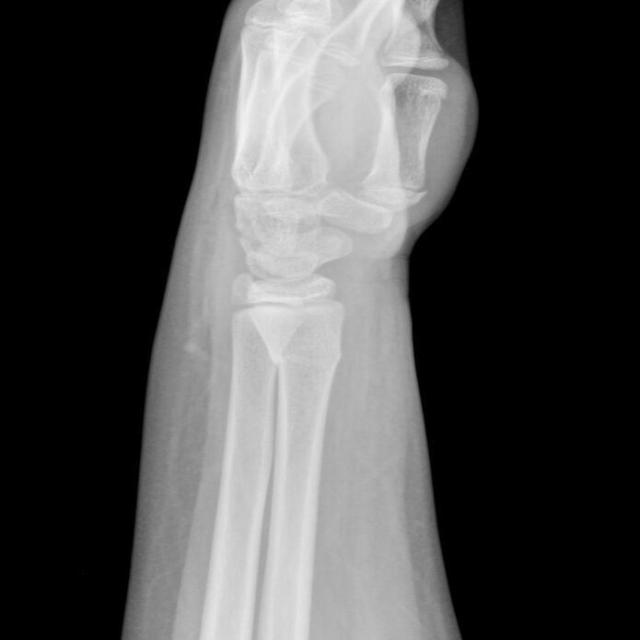fracture: (266, 352, 345, 369)
